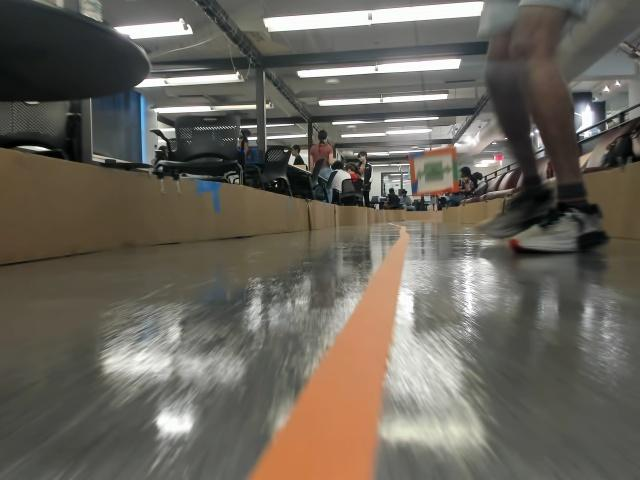Go Around: (417, 162, 450, 182)
